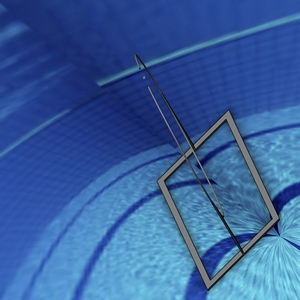circle: (130, 49, 280, 290)
